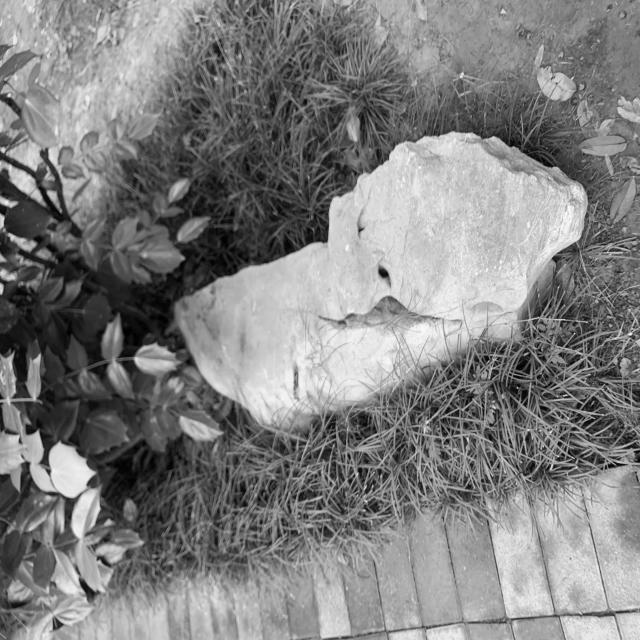Stone: (177, 132, 588, 428)
